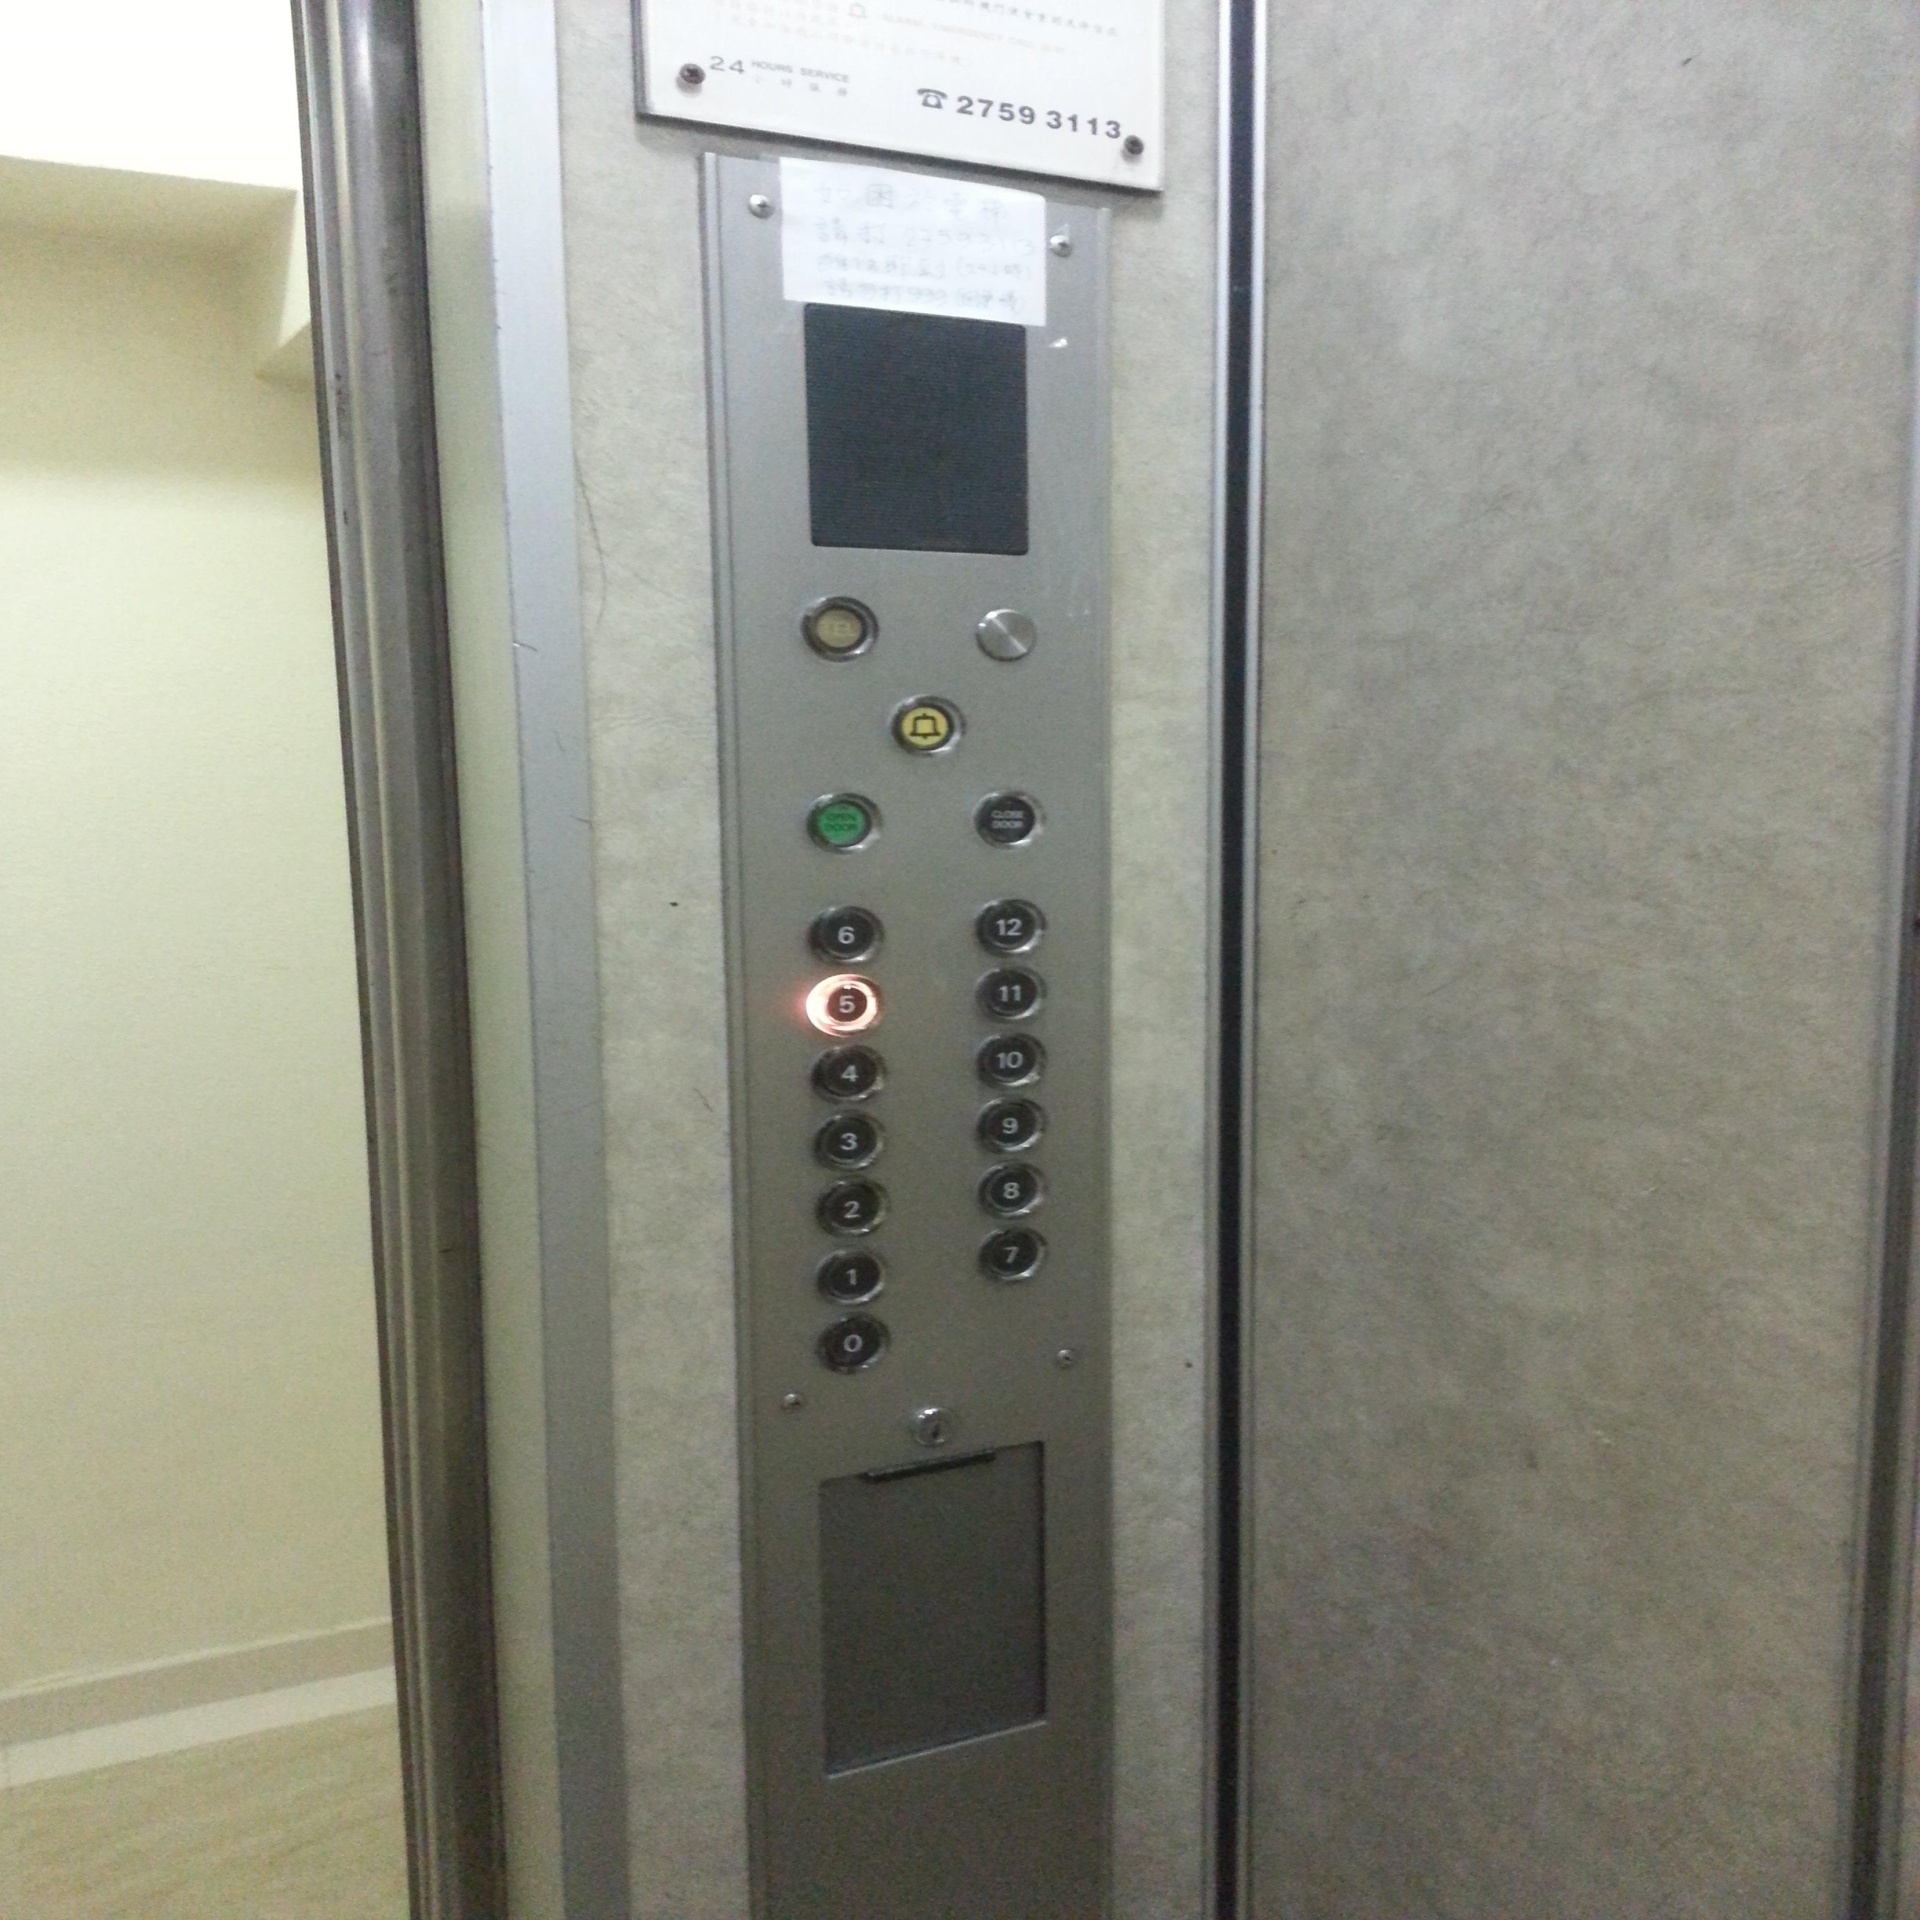0: (816, 1312, 890, 1373)
1: (811, 1245, 888, 1305)
10: (976, 1032, 1046, 1088)
11: (976, 965, 1046, 1022)
12: (972, 897, 1046, 956)
2: (812, 1175, 890, 1238)
3: (814, 1111, 886, 1169)
4: (809, 1044, 888, 1102)
5: (807, 976, 884, 1036)
6: (805, 905, 886, 964)
7: (978, 1225, 1046, 1282)
8: (978, 1160, 1044, 1217)
9: (978, 1095, 1044, 1152)
alarm: (890, 695, 965, 758)
blur: (802, 594, 879, 661)
empty: (974, 608, 1041, 663)
keyhole: (905, 1405, 956, 1445)
led: (798, 297, 1034, 559)
text_blur: (804, 791, 883, 855), (971, 788, 1046, 849)
